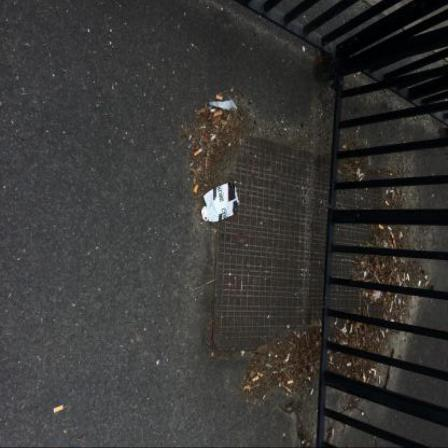Can: (202, 183, 240, 223)
Cigarette: (54, 407, 64, 415), (194, 150, 202, 158), (194, 187, 199, 195), (217, 97, 223, 103), (211, 136, 217, 142), (253, 377, 259, 383), (350, 326, 354, 334), (382, 332, 386, 339), (258, 373, 263, 378), (288, 381, 294, 385), (311, 390, 315, 396), (419, 283, 423, 289), (391, 234, 395, 240), (386, 202, 390, 207), (359, 175, 363, 180), (189, 137, 193, 142), (348, 365, 352, 369), (404, 274, 406, 282), (380, 226, 384, 230), (388, 227, 392, 231), (380, 379, 382, 386), (333, 430, 335, 437), (372, 370, 376, 373), (392, 303, 394, 309), (426, 283, 428, 289), (408, 276, 410, 282), (401, 233, 403, 239), (386, 191, 388, 197), (364, 375, 366, 380), (413, 298, 415, 303), (425, 276, 427, 281), (331, 358, 333, 363), (391, 192, 395, 194), (356, 398, 358, 402)
Pop tab: (203, 216, 209, 223)
Unlabeled litter: (210, 100, 238, 112)
